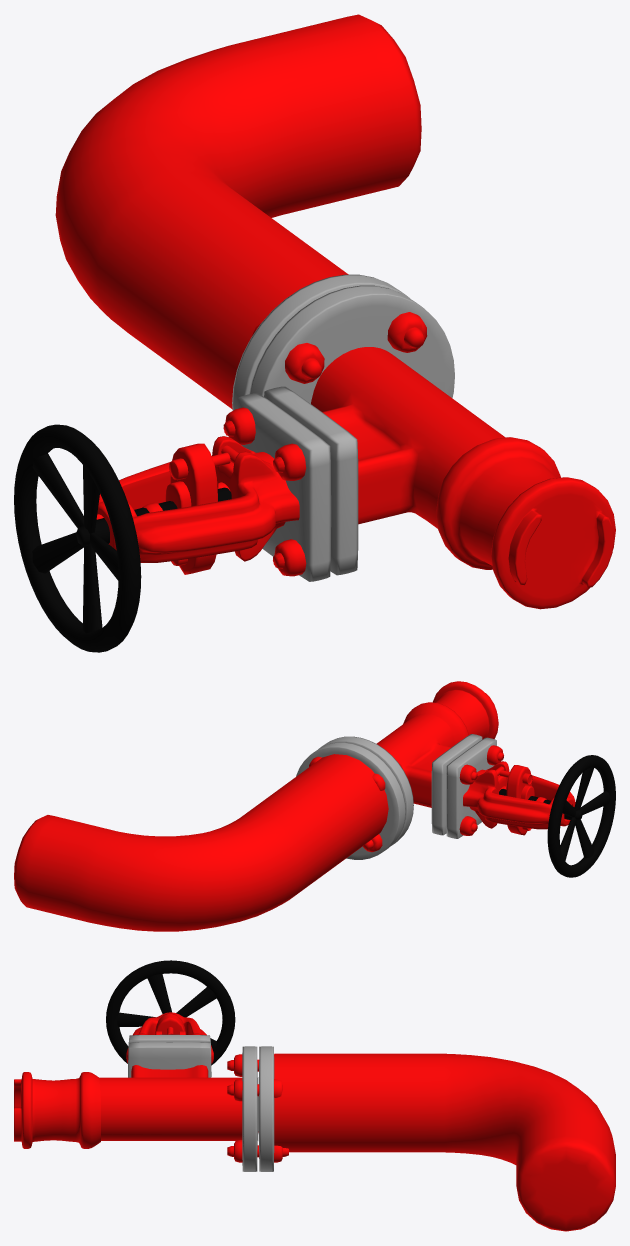
Rendered from Conduit1.gltf.
3 renders of one model, top to bottom at view 1: azimuth 30°, elevation 25°; view 2: azimuth 150°, elevation 25°; view 3: azimuth 270°, elevation 25°, orthographic. The views are drawn at different scales.
Parts seen in each view (by area): view 1: 消防_阀门01; view 2: 消防_阀门01; view 3: 消防_阀门01.
Part boxes in pixels (<box>): 消防_阀门01: <box>14,14,615,652</box>; 消防_阀门01: <box>14,681,615,931</box>; 消防_阀门01: <box>14,960,615,1231</box>.
Bounding box in the file's own units: 0.5799 × 0.1777 × 0.8099.
